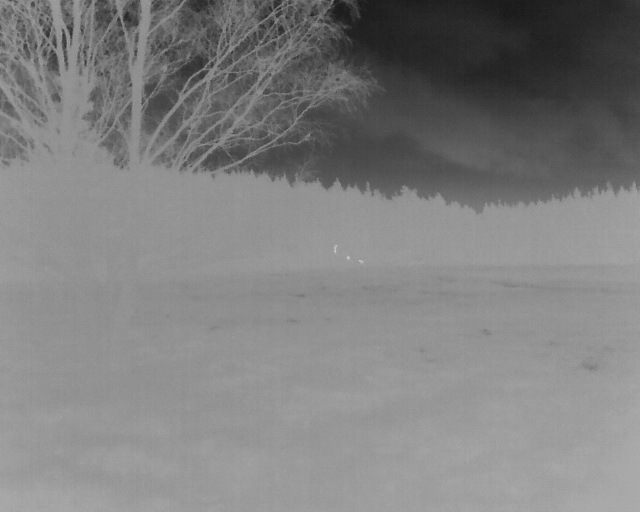Deer: (346, 254, 351, 261), (358, 259, 364, 264), (334, 244, 338, 249), (333, 249, 337, 254)
